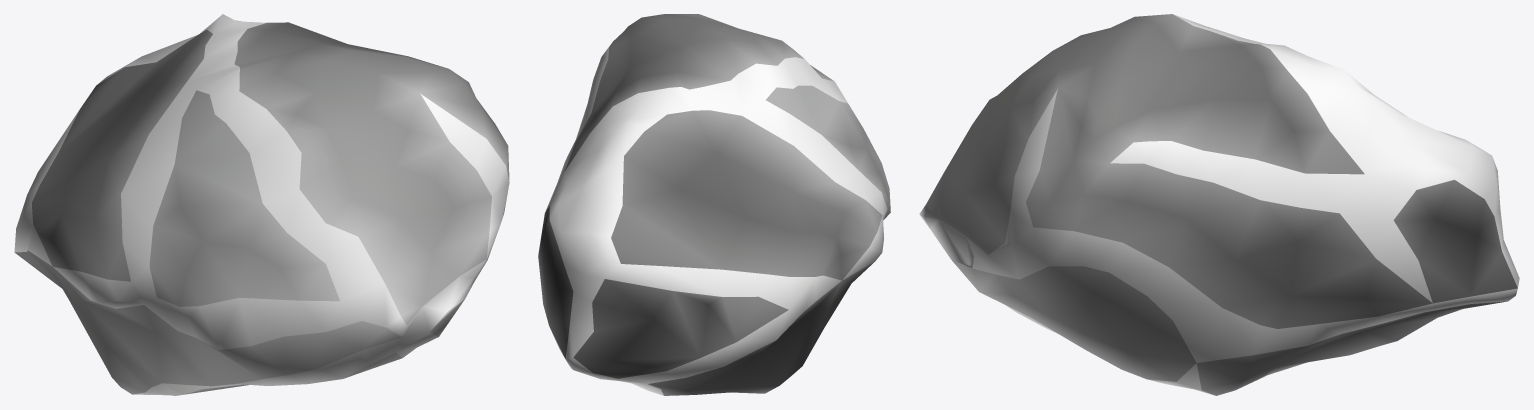
The model's file is SM_Rock_07.fbx.
The picture shows the model from 3 angles, left to right: view 1: azimuth 30°, elevation 25°; view 2: azimuth 150°, elevation 25°; view 3: azimuth 270°, elevation 25°; orthographic projection. The views are drawn at different scales.
Parts seen in each view (by area): view 1: SM_Rock_07; view 2: SM_Rock_07; view 3: SM_Rock_07.
Boxes of the visible parts, x1,y1,x2,y2 form: SM_Rock_07: (14,14,509,395); SM_Rock_07: (538,14,890,395); SM_Rock_07: (919,14,1519,395).
Bounding box in the file's own units: 20.05 × 18.89 × 28.37.
